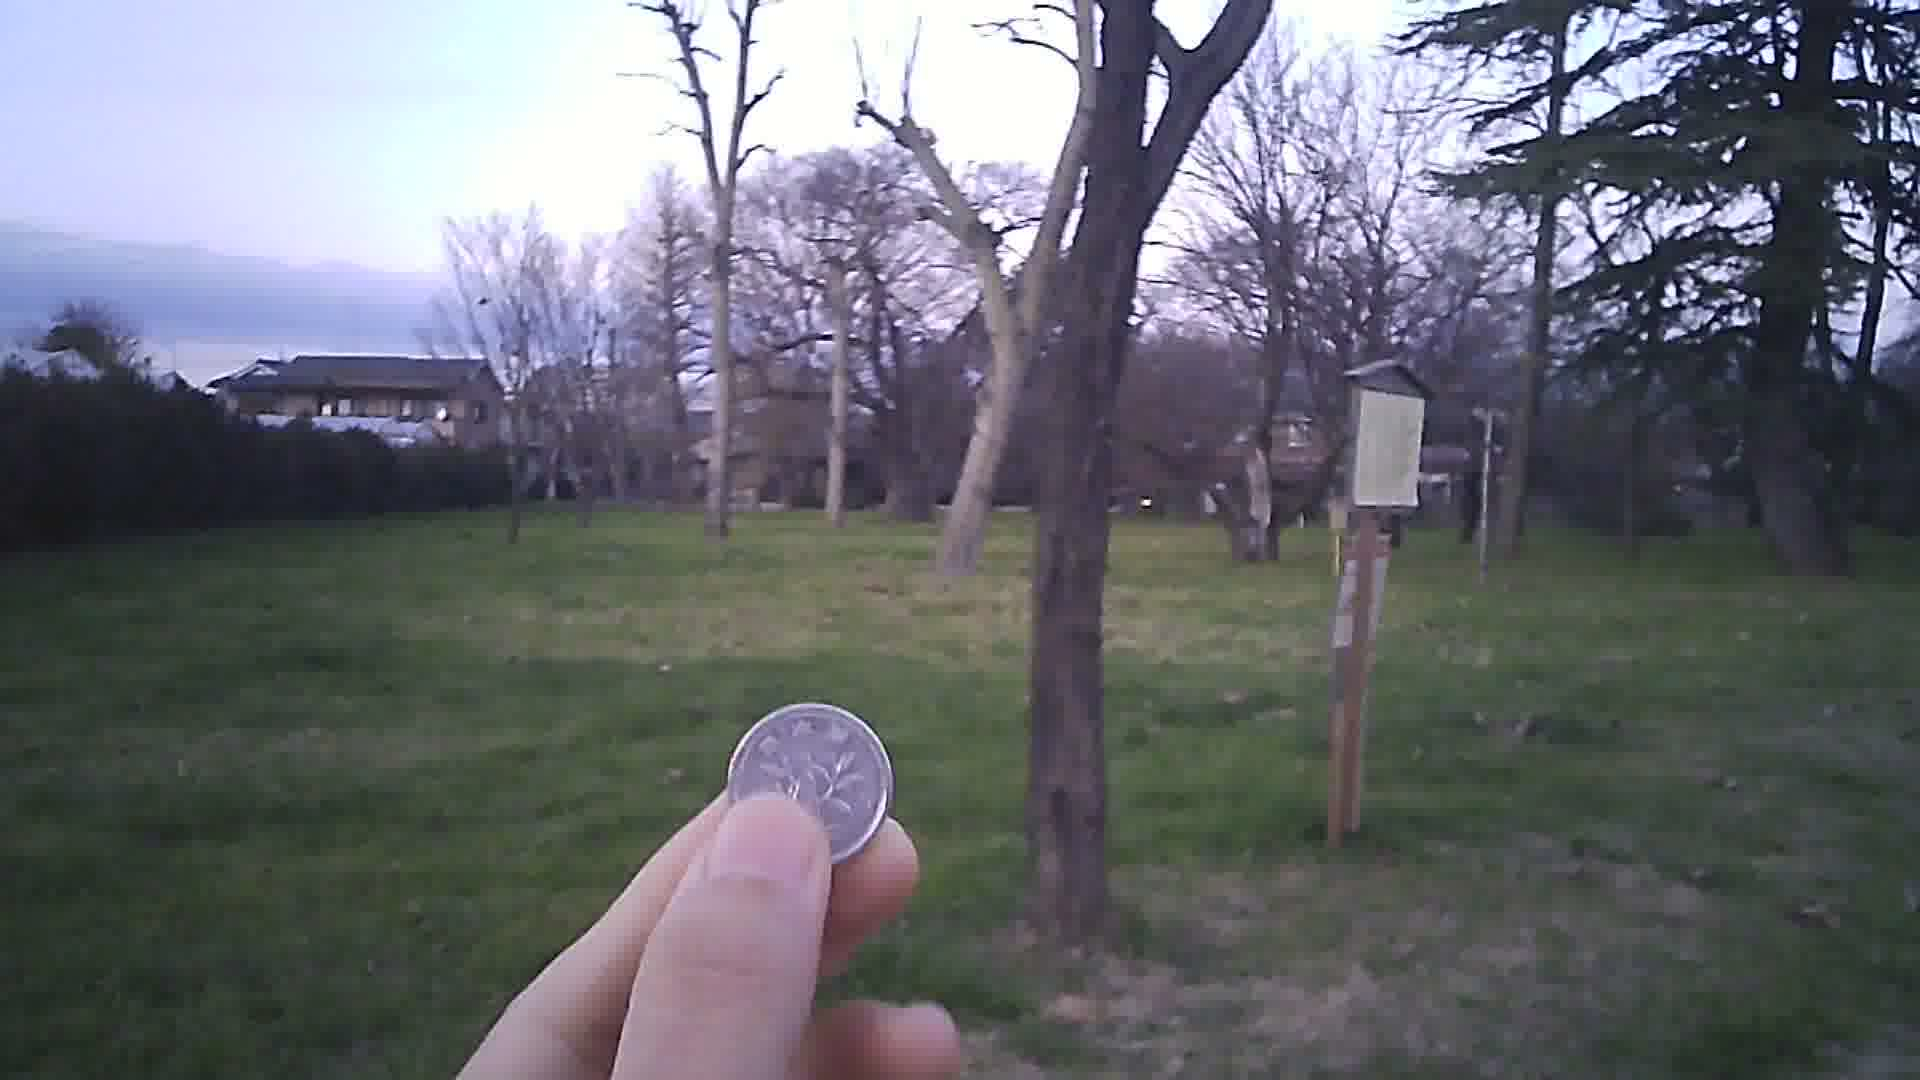1 Yen: (713, 694, 901, 866)
